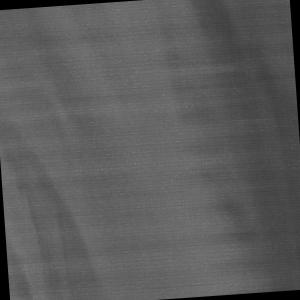Wrinkle: (1, 2, 153, 300), (165, 1, 300, 299)
